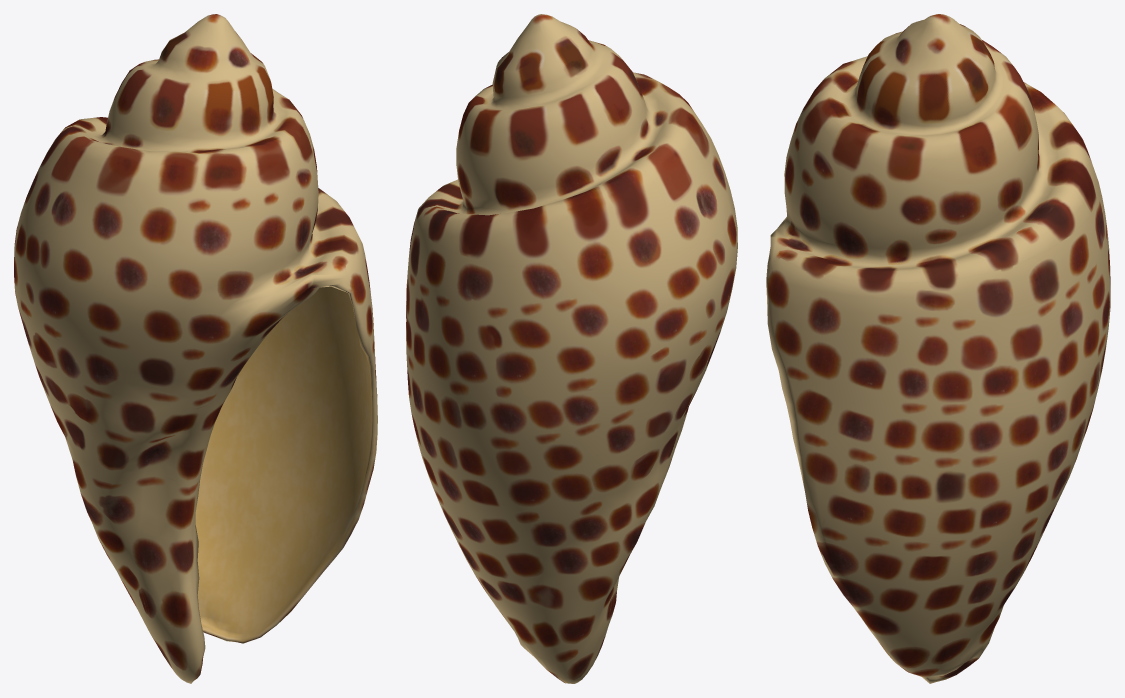
File: junonia-shell.glb
3 renders of one model, left to right at view 1: azimuth 30°, elevation 25°; view 2: azimuth 150°, elevation 25°; view 3: azimuth 270°, elevation 25°, orthographic. The views are drawn at different scales.
Parts seen in each view (by area): view 1: OBJ_JunoniaShell; view 2: OBJ_JunoniaShell; view 3: OBJ_JunoniaShell.
Part boxes in pixels (bbox=[...]): OBJ_JunoniaShell: bbox=[14, 14, 377, 683]; OBJ_JunoniaShell: bbox=[406, 14, 737, 683]; OBJ_JunoniaShell: bbox=[766, 14, 1110, 683].
Bounding box in the file's own units: 0.0489 × 0.1026 × 0.0469.
1 material, 1 textured.
